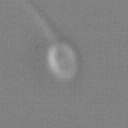normal: (21, 1, 61, 43)
